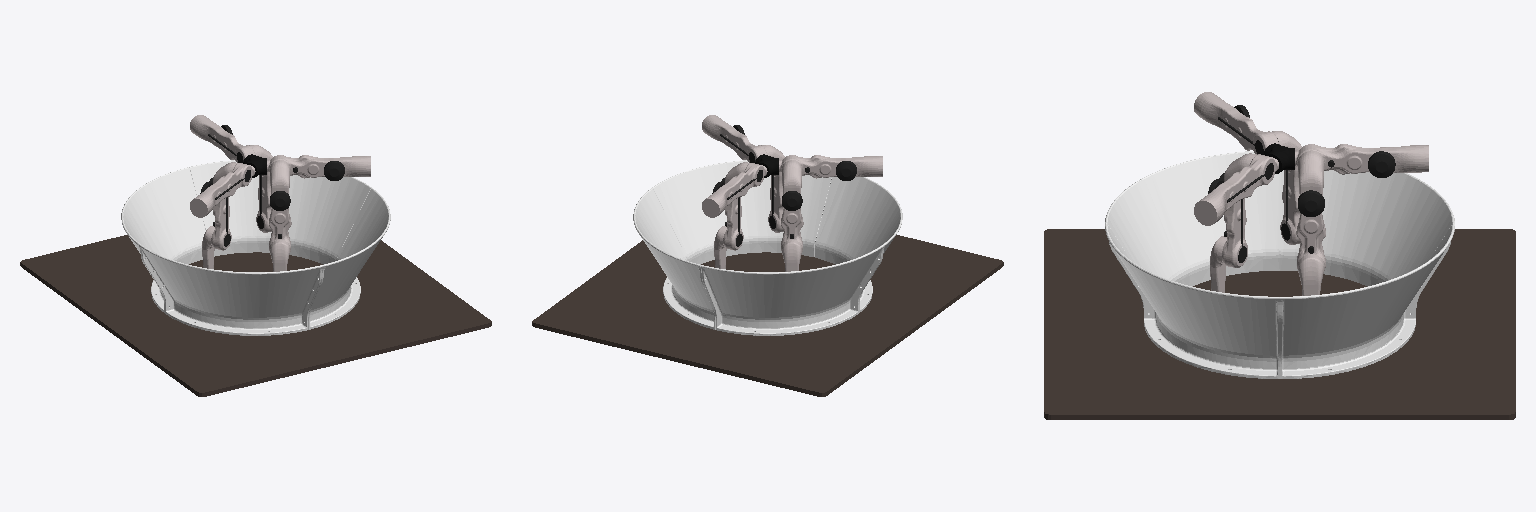
--- Facts derived from the render (not from the file) ---
Views: 3 orthographic renders of the robot side by side, from view 1: azimuth 30°, elevation 25°; view 2: azimuth 150°, elevation 25°; view 3: azimuth 270°, elevation 25°.
Model trifingerpro_with_stage with 25 links and 24 joints (9 revolute, 15 fixed), rooted at base_link, posed every joint at zero.
Links seen in each view (by area): view 1: table_link, boundary_link, finger_upper_link_120, finger_upper_link_240, finger_middle_link_120, finger_upper_link_0, finger_middle_link_240, finger_middle_link_0, finger_lower_link_120; view 2: table_link, boundary_link, finger_upper_link_240, finger_upper_link_0, finger_middle_link_240, finger_upper_link_120, finger_middle_link_0, finger_middle_link_120, finger_lower_link_240; view 3: table_link, boundary_link, finger_upper_link_0, finger_upper_link_120, finger_middle_link_0, finger_upper_link_240, finger_middle_link_120, finger_middle_link_240, finger_lower_link_0, finger_lower_link_120, finger_upper_link_visuals_0, finger_middle_link_visuals_0 (+1 smaller).
Boxes of the visible links, left/top/right/bottom form: table_link: left=20, top=235, right=491, bottom=396; boundary_link: left=121, top=160, right=390, bottom=335; finger_upper_link_120: left=267, top=155, right=370, bottom=178; finger_upper_link_240: left=190, top=163, right=255, bottom=217; finger_middle_link_120: left=269, top=160, right=291, bottom=250; finger_upper_link_0: left=190, top=115, right=254, bottom=162; finger_middle_link_240: left=211, top=162, right=237, bottom=250; finger_middle_link_0: left=249, top=145, right=272, bottom=232; finger_lower_link_120: left=270, top=240, right=290, bottom=271; table_link: left=532, top=235, right=1003, bottom=396; boundary_link: left=633, top=160, right=902, bottom=335; finger_upper_link_240: left=779, top=155, right=882, bottom=178; finger_upper_link_0: left=702, top=163, right=767, bottom=217; finger_middle_link_240: left=781, top=160, right=803, bottom=250; finger_upper_link_120: left=702, top=115, right=766, bottom=162; finger_middle_link_0: left=723, top=162, right=749, bottom=250; finger_middle_link_120: left=761, top=145, right=784, bottom=232; finger_lower_link_240: left=782, top=240, right=802, bottom=271; table_link: left=1044, top=229, right=1515, bottom=419; boundary_link: left=1105, top=151, right=1454, bottom=378; finger_upper_link_0: left=1295, top=144, right=1428, bottom=174; finger_upper_link_120: left=1194, top=154, right=1278, bottom=225; finger_middle_link_0: left=1296, top=151, right=1325, bottom=268; finger_upper_link_240: left=1194, top=92, right=1278, bottom=154; finger_middle_link_120: left=1222, top=153, right=1256, bottom=267; finger_middle_link_240: left=1272, top=131, right=1301, bottom=244; finger_lower_link_0: left=1298, top=254, right=1324, bottom=295; finger_lower_link_120: left=1210, top=236, right=1226, bottom=292; finger_upper_link_visuals_0: left=1328, top=151, right=1395, bottom=177; finger_middle_link_visuals_0: left=1298, top=190, right=1324, bottom=253.
Bounding box of the posed robot: 0.71 × 0.76 × 0.3555 m (x, y, z).
Meshes: 8 distinct files referenced, 21 mesh visuals loaded (8 binary STL).

URDF robot description (trifingerpro_with_stage):
<?xml version="1.0" ?>
<!-- =================================================================================== -->
<!-- |    This document was autogenerated by xacro from robot_properties_fingers/xacro/pro/trifingerpro_with_stage.urdf.xacro | -->
<!-- |    EDITING THIS FILE BY HAND IS NOT RECOMMENDED                                 | -->
<!-- =================================================================================== -->
<robot name="trifingerpro_with_stage">
  <!--
    Frames are defined such that they all align with the base frame when all
    joints are at position zero.

    In zero-configuration the origins of all joints are in one line.

    In zero-configuration the origin of the base link is exactly above the
    finger tip which should make it easy to place the finger in the world.
    -->
  <material name="fingerpro_shell">
    <!-- colour from image -->
    <color rgba="0.804 0.764 0.761 1.0"/>
  </material>
  <material name="fingerpro_tip">
    <!-- colour from image -->
    <color rgba="0.33 0.36 0.37 1.0"/>
  </material>
  <material name="fingerpro_motor">
    <color rgba="0.17 0.17 0.17 1.0"/>
  </material>
  <material name="center_holder_material">
    <color rgba="0.1 0.1 0.1 1.0"/>
  </material>
  <!-- Define the global base_link and place all other objects relative to it. -->
  <link name="base_link">
    <!-- add inertial to suppress warning -->
    <inertial>
      <mass value="0"/>
      <inertia ixx="0.0" ixy="0.0" ixz="0.0" iyy="0.0" iyz="0.0" izz="0.0"/>
    </inertial>
  </link>
  <!-- Define the upper holder -->
  <link name="upper_holder_link">
    <visual>
      <origin rpy="0 0 0" xyz="0 0 0"/>
      <geometry>
        <mesh filename="package://robot_properties_fingers/meshes/pro/center_axis_sim.stl" scale="1.0 1.0 1.0"/>
      </geometry>
      <material name="center_holder_material"/>
    </visual>
    <!-- add inertial to suppress warning -->
    <inertial>
      <mass value="0"/>
      <inertia ixx="0.0" ixy="0.0" ixz="0.0" iyy="0.0" iyz="0.0" izz="0.0"/>
    </inertial>
  </link>
  <joint name="base_to_upper_holder_joint" type="fixed">
    <parent link="base_link"/>
    <child link="upper_holder_link"/>
    <origin xyz="0 0 0.29"/>
  </joint>
  <!--
        Fixed links for the finger base (parts where the upper link is mounted).
        Note: Link Frames already coincide with the joint location
        -->
  <link name="finger_base_link_0">
    <inertial>
      <mass value="0"/>
      <inertia ixx="0.0" ixy="0.0" ixz="0.0" iyy="0.0" iyz="0.0" izz="0.0"/>
    </inertial>
  </link>
  <link name="finger_upper_link_0">
    <visual>
      <origin rpy="0 0 0" xyz="0 0 0"/>
      <geometry>
        <mesh filename="package://robot_properties_fingers/meshes/pro/prox-sim.stl" scale="1.0 1.0 1.0"/>
      </geometry>
      <material name="fingerpro_shell"/>
    </visual>
    <collision>
      <origin rpy="0 0 0" xyz="0 0 0"/>
      <geometry>
        <mesh filename="package://robot_properties_fingers/meshes/pro/prox-sim.stl" scale="1.0 1.0 1.0"/>
      </geometry>
    </collision>
    <inertial>
      <origin rpy="0 0 0" xyz="0.006 0.122 0.000"/>
      <mass value="0.26689"/>
      <inertia ixx="0.00102362" ixy="0.00000889" ixz="-0.00000019" iyx="0.00000889" iyy="0.00006450" iyz="0.00000106" izx="-0.00000019" izy="0.00000106" izz="0.00102225"/>
    </inertial>
  </link>
  <link name="finger_upper_link_visuals_0">
    <!-- motor -->
    <visual>
      <origin xyz="0.01569 0.1643 0"/>
      <geometry>
        <mesh filename="package://robot_properties_fingers/meshes/pro/motor_sim.stl"/>
      </geometry>
      <material name="fingerpro_motor"/>
    </visual>
    <!-- end stop -->
    <visual>
      <origin rpy="0 1.5707963267948966 0" xyz="0.015 0.083 0"/>
      <geometry>
        <cylinder length="0.015" radius="0.005"/>
      </geometry>
      <material name="fingerpro_motor"/>
    </visual>
    <!-- cables -->
    <visual>
      <origin rpy="1.5707963267948966 0 0" xyz="-0.008 0.124 0"/>
      <geometry>
        <cylinder length="0.12" radius="0.002"/>
      </geometry>
      <material name="fingerpro_motor"/>
    </visual>
    <!-- opening on lower joint -->
    <visual>
      <origin rpy="0 1.5707963267948966 0" xyz="-0.0085 0.050 0"/>
      <geometry>
        <cylinder length="0.002" radius="0.014"/>
      </geometry>
      <material name="fingerpro_motor"/>
    </visual>
    <inertial>
      <mass value="0"/>
      <inertia ixx="0.0" ixy="0.0" ixz="0.0" iyy="0.0" iyz="0.0" izz="0.0"/>
    </inertial>
  </link>
  <joint name="finger_upper_visuals_joint_0" type="fixed">
    <parent link="finger_upper_link_0"/>
    <child link="finger_upper_link_visuals_0"/>
    <origin xyz="0 0 0"/>
  </joint>
  <link name="finger_middle_link_0">
    <visual>
      <origin rpy="0 0 0" xyz="0 0 0"/>
      <geometry>
        <mesh filename="package://robot_properties_fingers/meshes/pro/int_sim.stl" scale="1.0 1.0 1.0"/>
      </geometry>
      <material name="fingerpro_shell"/>
    </visual>
    <collision>
      <origin rpy="0 0 0" xyz="0 0 0"/>
      <geometry>
        <mesh filename="package://robot_properties_fingers/meshes/pro/int_sim.stl" scale="1.0 1.0 1.0"/>
      </geometry>
    </collision>
    <inertial>
      <origin rpy="0 0 0" xyz="0.03935008 -0.00012438 -0.08666705"/>
      <mass value="0.27163"/>
      <inertia ixx="0.00094060" ixy="-0.00000046" ixz="-0.00003479" iyx="-0.00000046" iyy="0.00094824" iyz="0.00000164" izx="-0.00003479" izy="0.00000164" izz="0.00007573"/>
    </inertial>
  </link>
  <link name="finger_middle_link_visuals_0">
    <!-- motor -->
    <visual>
      <origin xyz="0.0488 0 -0.0462"/>
      <geometry>
        <mesh filename="package://robot_properties_fingers/meshes/pro/motor_sim.stl"/>
      </geometry>
      <material name="fingerpro_motor"/>
    </visual>
    <!-- end stop -->
    <visual>
      <origin rpy="0 1.5707963267948966 0" xyz="0.0488 0 -0.13"/>
      <geometry>
        <cylinder length="0.015" radius="0.005"/>
      </geometry>
      <material name="fingerpro_motor"/>
    </visual>
    <!-- cables -->
    <visual>
      <origin xyz="0.025 0 -0.09"/>
      <geometry>
        <cylinder length="0.12" radius="0.002"/>
      </geometry>
      <material name="fingerpro_motor"/>
    </visual>
    <!-- opening on lower joint -->
    <visual>
      <origin rpy="0 1.5707963267948966 0" xyz="0.024 0 -0.16"/>
      <geometry>
        <cylinder length="0.002" radius="0.014"/>
      </geometry>
      <material name="fingerpro_motor"/>
    </visual>
    <inertial>
      <mass value="0"/>
      <inertia ixx="0.0" ixy="0.0" ixz="0.0" iyy="0.0" iyz="0.0" izz="0.0"/>
    </inertial>
  </link>
  <joint name="finger_middle_visuals_joint_0" type="fixed">
    <parent link="finger_middle_link_0"/>
    <child link="finger_middle_link_visuals_0"/>
  </joint>
  <link name="finger_lower_link_0">
    <visual>
      <origin rpy="0 0 0" xyz="0 0 0"/>
      <geometry>
        <mesh filename="package://robot_properties_fingers/meshes/pro/tip_link_sim.stl" scale="1.0 1.0 1.0"/>
      </geometry>
      <material name="fingerpro_shell"/>
    </visual>
    <collision>
      <origin rpy="0 0 0" xyz="0 0 0"/>
      <geometry>
        <mesh filename="package://robot_properties_fingers/meshes/pro/tip_link_sim.stl" scale="1.0 1.0 1.0"/>
      </geometry>
    </collision>
    <inertial>
      <origin rpy="0 0 0" xyz="0.01632700 -0.00001095 -0.04284052"/>
      <mass value="0.05569"/>
      <inertia ixx="0.00013626" ixy="0.00000000" ixz="-0.00000662" iyx="0.00000000" iyy="0.00013372" iyz="0.00000004" izx="-0.00000662" izy="0.00000004" izz="0.00000667"/>
    </inertial>
  </link>
  <!-- fixed link for finger tip -->
  <link name="finger_tip_link_0">
    <visual>
      <origin rpy="0 0 0" xyz="0 0 0"/>
      <geometry>
        <mesh filename="package://robot_properties_fingers/meshes/pro/tip_sim.stl" scale="1.0 1.0 1.0"/>
      </geometry>
      <material name="fingerpro_tip"/>
    </visual>
    <collision>
      <origin rpy="0 0 0" xyz="0 0 0"/>
      <geometry>
        <mesh filename="package://robot_properties_fingers/meshes/pro/tip_sim.stl" scale="1.0 1.0 1.0"/>
      </geometry>
    </collision>
    <inertial>
      <origin rpy="0 0 0" xyz="0 0 0"/>
      <mass value="0.031"/>
      <inertia ixx="5.166666666666667e-07" ixy="0" ixz="0" iyy="5.166666666666667e-07" iyz="0" izz="5.166666666666667e-07"/>
    </inertial>
    <inertial>
      <origin rpy="0 0 0" xyz="-0.00001194 0.00000000 0.01560060"/>
      <mass value="0.0092"/>
      <inertia ixx="0.00000155" ixy="0.00000000" ixz="0.00000000" iyx="0.00000000" iyy="0.00000155" iyz="0.00000000" izx="0.00000000" izy="0.00000000" izz="0.00000032"/>
    </inertial>
  </link>
  <joint name="finger_lower_to_tip_joint_0" type="fixed">
    <parent link="finger_lower_link_0"/>
    <child link="finger_tip_link_0"/>
    <origin xyz="0.019 0 -0.16"/>
  </joint>
  <!-- kinematics -->
  <!-- NOTE: Joint limits are set according to soft limits in the
             configuration of the real robot (i.e. not according to physical
             limits). -->
  <joint name="finger_base_to_upper_joint_0" type="revolute">
    <parent link="finger_base_link_0"/>
    <child link="finger_upper_link_0"/>
    <limit effort="1000" lower="-0.33" upper="1.0" velocity="1000"/>
    <axis xyz="0 1 0"/>
    <origin rpy="0 0 0" xyz="0 0 0"/>
  </joint>
  <joint name="finger_upper_to_middle_joint_0" type="revolute">
    <parent link="finger_upper_link_0"/>
    <child link="finger_middle_link_0"/>
    <limit effort="1000" lower="0.0" upper="1.57" velocity="1000"/>
    <axis xyz="1 0 0"/>
    <origin rpy="0 0 0" xyz="0.01685 0.0505 0"/>
  </joint>
  <joint name="finger_middle_to_lower_joint_0" type="revolute">
    <parent link="finger_middle_link_0"/>
    <child link="finger_lower_link_0"/>
    <limit effort="1000" lower="-2.7" upper="0.0" velocity="1000"/>
    <axis xyz="1 0 0"/>
    <origin rpy="0 0 0" xyz="0.05015 0 -0.16"/>
  </joint>
  <!--
        Fixed links for the finger base (parts where the upper link is mounted).
        Note: Link Frames already coincide with the joint location
        -->
  <link name="finger_base_link_120">
    <inertial>
      <mass value="0"/>
      <inertia ixx="0.0" ixy="0.0" ixz="0.0" iyy="0.0" iyz="0.0" izz="0.0"/>
    </inertial>
  </link>
  <link name="finger_upper_link_120">
    <visual>
      <origin rpy="0 0 0" xyz="0 0 0"/>
      <geometry>
        <mesh filename="package://robot_properties_fingers/meshes/pro/prox-sim.stl" scale="1.0 1.0 1.0"/>
      </geometry>
      <material name="fingerpro_shell"/>
    </visual>
    <collision>
      <origin rpy="0 0 0" xyz="0 0 0"/>
      <geometry>
        <mesh filename="package://robot_properties_fingers/meshes/pro/prox-sim.stl" scale="1.0 1.0 1.0"/>
      </geometry>
    </collision>
    <inertial>
      <origin rpy="0 0 0" xyz="0.006 0.122 0.000"/>
      <mass value="0.26689"/>
      <inertia ixx="0.00102362" ixy="0.00000889" ixz="-0.00000019" iyx="0.00000889" iyy="0.00006450" iyz="0.00000106" izx="-0.00000019" izy="0.00000106" izz="0.00102225"/>
    </inertial>
  </link>
  <link name="finger_upper_link_visuals_120">
    <!-- motor -->
    <visual>
      <origin xyz="0.01569 0.1643 0"/>
      <geometry>
        <mesh filename="package://robot_properties_fingers/meshes/pro/motor_sim.stl"/>
      </geometry>
      <material name="fingerpro_motor"/>
    </visual>
    <!-- end stop -->
    <visual>
      <origin rpy="0 1.5707963267948966 0" xyz="0.015 0.083 0"/>
      <geometry>
        <cylinder length="0.015" radius="0.005"/>
      </geometry>
      <material name="fingerpro_motor"/>
    </visual>
    <!-- cables -->
    <visual>
      <origin rpy="1.5707963267948966 0 0" xyz="-0.008 0.124 0"/>
      <geometry>
        <cylinder length="0.12" radius="0.002"/>
      </geometry>
      <material name="fingerpro_motor"/>
    </visual>
    <!-- opening on lower joint -->
    <visual>
      <origin rpy="0 1.5707963267948966 0" xyz="-0.0085 0.050 0"/>
      <geometry>
        <cylinder length="0.002" radius="0.014"/>
      </geometry>
      <material name="fingerpro_motor"/>
    </visual>
    <inertial>
      <mass value="0"/>
      <inertia ixx="0.0" ixy="0.0" ixz="0.0" iyy="0.0" iyz="0.0" izz="0.0"/>
    </inertial>
  </link>
  <joint name="finger_upper_visuals_joint_120" type="fixed">
    <parent link="finger_upper_link_120"/>
    <child link="finger_upper_link_visuals_120"/>
    <origin xyz="0 0 0"/>
  </joint>
  <link name="finger_middle_link_120">
    <visual>
      <origin rpy="0 0 0" xyz="0 0 0"/>
      <geometry>
        <mesh filename="package://robot_properties_fingers/meshes/pro/int_sim.stl" scale="1.0 1.0 1.0"/>
      </geometry>
      <material name="fingerpro_shell"/>
    </visual>
    <collision>
      <origin rpy="0 0 0" xyz="0 0 0"/>
      <geometry>
        <mesh filename="package://robot_properties_fingers/meshes/pro/int_sim.stl" scale="1.0 1.0 1.0"/>
      </geometry>
    </collision>
    <inertial>
      <origin rpy="0 0 0" xyz="0.03935008 -0.00012438 -0.08666705"/>
      <mass value="0.27163"/>
      <inertia ixx="0.00094060" ixy="-0.00000046" ixz="-0.00003479" iyx="-0.00000046" iyy="0.00094824" iyz="0.00000164" izx="-0.00003479" izy="0.00000164" izz="0.00007573"/>
    </inertial>
  </link>
  <link name="finger_middle_link_visuals_120">
    <!-- motor -->
    <visual>
      <origin xyz="0.0488 0 -0.0462"/>
      <geometry>
        <mesh filename="package://robot_properties_fingers/meshes/pro/motor_sim.stl"/>
      </geometry>
      <material name="fingerpro_motor"/>
    </visual>
    <!-- end stop -->
    <visual>
      <origin rpy="0 1.5707963267948966 0" xyz="0.0488 0 -0.13"/>
      <geometry>
        <cylinder length="0.015" radius="0.005"/>
      </geometry>
      <material name="fingerpro_motor"/>
    </visual>
    <!-- cables -->
    <visual>
      <origin xyz="0.025 0 -0.09"/>
      <geometry>
        <cylinder length="0.12" radius="0.002"/>
      </geometry>
      <material name="fingerpro_motor"/>
    </visual>
    <!-- opening on lower joint -->
    <visual>
      <origin rpy="0 1.5707963267948966 0" xyz="0.024 0 -0.16"/>
      <geometry>
        <cylinder length="0.002" radius="0.014"/>
      </geometry>
      <material name="fingerpro_motor"/>
    </visual>
    <inertial>
      <mass value="0"/>
      <inertia ixx="0.0" ixy="0.0" ixz="0.0" iyy="0.0" iyz="0.0" izz="0.0"/>
    </inertial>
  </link>
  <joint name="finger_middle_visuals_joint_120" type="fixed">
    <parent link="finger_middle_link_120"/>
    <child link="finger_middle_link_visuals_120"/>
  </joint>
  <link name="finger_lower_link_120">
    <visual>
      <origin rpy="0 0 0" xyz="0 0 0"/>
      <geometry>
        <mesh filename="package://robot_properties_fingers/meshes/pro/tip_link_sim.stl" scale="1.0 1.0 1.0"/>
      </geometry>
      <material name="fingerpro_shell"/>
    </visual>
    <collision>
      <origin rpy="0 0 0" xyz="0 0 0"/>
      <geometry>
        <mesh filename="package://robot_properties_fingers/meshes/pro/tip_link_sim.stl" scale="1.0 1.0 1.0"/>
      </geometry>
    </collision>
    <inertial>
      <origin rpy="0 0 0" xyz="0.01632700 -0.00001095 -0.04284052"/>
      <mass value="0.05569"/>
      <inertia ixx="0.00013626" ixy="0.00000000" ixz="-0.00000662" iyx="0.00000000" iyy="0.00013372" iyz="0.00000004" izx="-0.00000662" izy="0.00000004" izz="0.00000667"/>
    </inertial>
  </link>
  <!-- fixed link for finger tip -->
  <link name="finger_tip_link_120">
    <visual>
      <origin rpy="0 0 0" xyz="0 0 0"/>
      <geometry>
        <mesh filename="package://robot_properties_fingers/meshes/pro/tip_sim.stl" scale="1.0 1.0 1.0"/>
      </geometry>
      <material name="fingerpro_tip"/>
    </visual>
    <collision>
      <origin rpy="0 0 0" xyz="0 0 0"/>
      <geometry>
        <mesh filename="package://robot_properties_fingers/meshes/pro/tip_sim.stl" scale="1.0 1.0 1.0"/>
      </geometry>
    </collision>
    <inertial>
      <origin rpy="0 0 0" xyz="0 0 0"/>
      <mass value="0.031"/>
      <inertia ixx="5.166666666666667e-07" ixy="0" ixz="0" iyy="5.166666666666667e-07" iyz="0" izz="5.166666666666667e-07"/>
    </inertial>
    <inertial>
      <origin rpy="0 0 0" xyz="-0.00001194 0.00000000 0.01560060"/>
      <mass value="0.0092"/>
      <inertia ixx="0.00000155" ixy="0.00000000" ixz="0.00000000" iyx="0.00000000" iyy="0.00000155" iyz="0.00000000" izx="0.00000000" izy="0.00000000" izz="0.00000032"/>
    </inertial>
  </link>
  <joint name="finger_lower_to_tip_joint_120" type="fixed">
    <parent link="finger_lower_link_120"/>
    <child link="finger_tip_link_120"/>
    <origin xyz="0.019 0 -0.16"/>
  </joint>
  <!-- kinematics -->
  <!-- NOTE: Joint limits are set according to soft limits in the
             configuration of the real robot (i.e. not according to physical
             limits). -->
  <joint name="finger_base_to_upper_joint_120" type="revolute">
    <parent link="finger_base_link_120"/>
    <child link="finger_upper_link_120"/>
    <limit effort="1000" lower="-0.33" upper="1.0" velocity="1000"/>
    <axis xyz="0 1 0"/>
    <origin rpy="0 0 0" xyz="0 0 0"/>
  </joint>
  <joint name="finger_upper_to_middle_joint_120" type="revolute">
    <parent link="finger_upper_link_120"/>
    <child link="finger_middle_link_120"/>
    <limit effort="1000" lower="0.0" upper="1.57" velocity="1000"/>
    <axis xyz="1 0 0"/>
    <origin rpy="0 0 0" xyz="0.01685 0.0505 0"/>
  </joint>
  <joint name="finger_middle_to_lower_joint_120" type="revolute">
    <parent link="finger_middle_link_120"/>
    <child link="finger_lower_link_120"/>
    <limit effort="1000" lower="-2.7" upper="0.0" velocity="1000"/>
    <axis xyz="1 0 0"/>
    <origin rpy="0 0 0" xyz="0.05015 0 -0.16"/>
  </joint>
  <!--
        Fixed links for the finger base (parts where the upper link is mounted).
        Note: Link Frames already coincide with the joint location
        -->
  <link name="finger_base_link_240">
    <inertial>
      <mass value="0"/>
      <inertia ixx="0.0" ixy="0.0" ixz="0.0" iyy="0.0" iyz="0.0" izz="0.0"/>
    </inertial>
  </link>
  <link name="finger_upper_link_240">
    <visual>
      <origin rpy="0 0 0" xyz="0 0 0"/>
      <geometry>
        <mesh filename="package://robot_properties_fingers/meshes/pro/prox-sim.stl" scale="1.0 1.0 1.0"/>
      </geometry>
      <material name="fingerpro_shell"/>
    </visual>
    <collision>
      <origin rpy="0 0 0" xyz="0 0 0"/>
      <geometry>
        <mesh filename="package://robot_properties_fingers/meshes/pro/prox-sim.stl" scale="1.0 1.0 1.0"/>
      </geometry>
    </collision>
    <inertial>
      <origin rpy="0 0 0" xyz="0.006 0.122 0.000"/>
      <mass value="0.26689"/>
      <inertia ixx="0.00102362" ixy="0.00000889" ixz="-0.00000019" iyx="0.00000889" iyy="0.00006450" iyz="0.00000106" izx="-0.00000019" izy="0.00000106" izz="0.00102225"/>
    </inertial>
  </link>
  <link name="finger_upper_link_visuals_240">
    <!-- motor -->
    <visual>
      <origin xyz="0.01569 0.1643 0"/>
      <geometry>
        <mesh filename="package://robot_properties_fingers/meshes/pro/motor_sim.stl"/>
      </geometry>
      <material name="fingerpro_motor"/>
    </visual>
    <!-- end stop -->
    <visual>
      <origin rpy="0 1.5707963267948966 0" xyz="0.015 0.083 0"/>
      <geometry>
        <cylinder length="0.015" radius="0.005"/>
      </geometry>
      <material name="fingerpro_motor"/>
    </visual>
    <!-- cables -->
    <visual>
      <origin rpy="1.5707963267948966 0 0" xyz="-0.008 0.124 0"/>
      <geometry>
        <cylinder length="0.12" radius="0.002"/>
      </geometry>
      <material name="fingerpro_motor"/>
    </visual>
    <!-- opening on lower joint -->
    <visual>
      <origin rpy="0 1.5707963267948966 0" xyz="-0.0085 0.050 0"/>
      <geometry>
        <cylinder length="0.002" radius="0.014"/>
      </geometry>
      <material name="fingerpro_motor"/>
    </visual>
    <inertial>
      <mass value="0"/>
      <inertia ixx="0.0" ixy="0.0" ixz="0.0" iyy="0.0" iyz="0.0" izz="0.0"/>
    </inertial>
  </link>
  <joint name="finger_upper_visuals_joint_240" type="fixed">
    <parent link="finger_upper_link_240"/>
    <child link="finger_upper_link_visuals_240"/>
    <origin xyz="0 0 0"/>
  </joint>
  <link name="finger_middle_link_240">
    <visual>
      <origin rpy="0 0 0" xyz="0 0 0"/>
      <geometry>
        <mesh filename="package://robot_properties_fingers/meshes/pro/int_sim.stl" scale="1.0 1.0 1.0"/>
      </geometry>
      <material name="fingerpro_shell"/>
    </visual>
    <collision>
      <origin rpy="0 0 0" xyz="0 0 0"/>
      <geometry>
        <mesh filename="package://robot_properties_fingers/meshes/pro/int_sim.stl" scale="1.0 1.0 1.0"/>
      </geometry>
    </collision>
    <inertial>
      <origin rpy="0 0 0" xyz="0.03935008 -0.00012438 -0.08666705"/>
      <mass value="0.27163"/>
      <inertia ixx="0.00094060" ixy="-0.00000046" ixz="-0.00003479" iyx="-0.00000046" iyy="0.00094824" iyz="0.00000164" izx="-0.00003479" izy="0.00000164" izz="0.00007573"/>
    </inertial>
  </link>
  <link name="finger_middle_link_visuals_240">
    <!-- motor -->
    <visual>
      <origin xyz="0.0488 0 -0.0462"/>
      <geometry>
        <mesh filename="package://robot_properties_fingers/meshes/pro/motor_sim.stl"/>
      </geometry>
      <material name="fingerpro_motor"/>
    </visual>
    <!-- end stop -->
    <visual>
      <origin rpy="0 1.5707963267948966 0" xyz="0.0488 0 -0.13"/>
      <geometry>
        <cylinder length="0.015" radius="0.005"/>
      </geometry>
      <material name="fingerpro_motor"/>
    </visual>
    <!-- cables -->
    <visual>
      <origin xyz="0.025 0 -0.09"/>
      <geometry>
        <cylinder length="0.12" radius="0.002"/>
      </geometry>
      <material name="fingerpro_motor"/>
    </visual>
    <!-- opening on lower joint -->
    <visual>
      <origin rpy="0 1.5707963267948966 0" xyz="0.024 0 -0.16"/>
      <geometry>
        <cylinder length="0.002" radius="0.014"/>
      </geometry>
      <material name="fingerpro_motor"/>
    </visual>
    <inertial>
      <mass value="0"/>
      <inertia ixx="0.0" ixy="0.0" ixz="0.0" iyy="0.0" iyz="0.0" izz="0.0"/>
    </inertial>
  </link>
  <joint name="finger_middle_visuals_joint_240" type="fixed">
    <parent link="finger_middle_link_240"/>
    <child link="finger_middle_link_visuals_240"/>
  </joint>
  <link name="finger_lower_link_240">
    <visual>
      <origin rpy="0 0 0" xyz="0 0 0"/>
      <geometry>
        <mesh filename="package://robot_properties_fingers/meshes/pro/tip_link_sim.stl" scale="1.0 1.0 1.0"/>
      </geometry>
      <material name="fingerpro_shell"/>
    </visual>
    <collision>
      <origin rpy="0 0 0" xyz="0 0 0"/>
      <geometry>
        <mesh filename="package://robot_properties_fingers/meshes/pro/tip_link_sim.stl" scale="1.0 1.0 1.0"/>
      </geometry>
    </collision>
    <inertial>
      <origin rpy="0 0 0" xyz="0.01632700 -0.00001095 -0.04284052"/>
      <mass value="0.05569"/>
      <inertia ixx="0.00013626" ixy="0.00000000" ixz="-0.00000662" iyx="0.00000000" iyy="0.00013372" iyz="0.00000004" izx="-0.00000662" izy="0.00000004" izz="0.00000667"/>
    </inertial>
  </link>
  <!-- fixed link for finger tip -->
  <link name="finger_tip_link_240">
    <visual>
      <origin rpy="0 0 0" xyz="0 0 0"/>
      <geometry>
        <mesh filename="package://robot_properties_fingers/meshes/pro/tip_sim.stl" scale="1.0 1.0 1.0"/>
      </geometry>
      <material name="fingerpro_tip"/>
    </visual>
    <collision>
      <origin rpy="0 0 0" xyz="0 0 0"/>
      <geometry>
        <mesh filename="package://robot_properties_fingers/meshes/pro/tip_sim.stl" scale="1.0 1.0 1.0"/>
      </geometry>
    </collision>
    <inertial>
      <origin rpy="0 0 0" xyz="0 0 0"/>
      <mass value="0.031"/>
      <inertia ixx="5.166666666666667e-07" ixy="0" ixz="0" iyy="5.166666666666667e-07" iyz="0" izz="5.166666666666667e-07"/>
    </inertial>
    <inertial>
      <origin rpy="0 0 0" xyz="-0.00001194 0.00000000 0.01560060"/>
      <mass value="0.0092"/>
      <inertia ixx="0.00000155" ixy="0.00000000" ixz="0.00000000" iyx="0.00000000" iyy="0.00000155" iyz="0.00000000" izx="0.00000000" izy="0.00000000" izz="0.00000032"/>
    </inertial>
  </link>
  <joint name="finger_lower_to_tip_joint_240" type="fixed">
    <parent link="finger_lower_link_240"/>
    <child link="finger_tip_link_240"/>
    <origin xyz="0.019 0 -0.16"/>
  </joint>
  <!-- kinematics -->
  <!-- NOTE: Joint limits are set according to soft limits in the
             configuration of the real robot (i.e. not according to physical
             limits). -->
  <joint name="finger_base_to_upper_joint_240" type="revolute">
    <parent link="finger_base_link_240"/>
    <child link="finger_upper_link_240"/>
    <limit effort="1000" lower="-0.33" upper="1.0" velocity="1000"/>
    <axis xyz="0 1 0"/>
    <origin rpy="0 0 0" xyz="0 0 0"/>
  </joint>
  <joint name="finger_upper_to_middle_joint_240" type="revolute">
    <parent link="finger_upper_link_240"/>
    <child link="finger_middle_link_240"/>
    <limit effort="1000" lower="0.0" upper="1.57" velocity="1000"/>
    <axis xyz="1 0 0"/>
    <origin rpy="0 0 0" xyz="0.01685 0.0505 0"/>
  </joint>
  <joint name="finger_middle_to_lower_joint_240" type="revolute">
    <parent link="finger_middle_link_240"/>
    <child link="finger_lower_link_240"/>
    <limit effort="1000" lower="-2.7" upper="0.0" velocity="1000"/>
    <axis xyz="1 0 0"/>
    <origin rpy="0 0 0" xyz="0.05015 0 -0.16"/>
  </joint>
  <joint name="holder_to_finger_0" type="fixed">
    <parent link="upper_holder_link"/>
    <child link="finger_base_link_0"/>
    <origin rpy="0 0 0.0" xyz="0 0 0"/>
  </joint>
  <joint name="holder_to_finger_120" type="fixed">
    <parent link="upper_holder_link"/>
    <child link="finger_base_link_120"/>
    <origin rpy="0 0 -2.0943951023931953" xyz="0 0 0"/>
  </joint>
  <joint name="holder_to_finger_240" type="fixed">
    <parent link="upper_holder_link"/>
    <child link="finger_base_link_240"/>
    <origin rpy="0 0 -4.1887902047863905" xyz="0 0 0"/>
  </joint>
  <material name="table_material">
    <color rgba="0.31 0.27 0.25 1.0"/>
  </material>
  <material name="boundary_material">
    <color rgba="0.95 0.95 0.95 1.0"/>
  </material>
  <link name="table_link">
    <visual>
      <origin rpy="0 0 0" xyz="0 0 0"/>
      <geometry>
        <mesh filename="package://robot_properties_fingers/meshes/stl/trifinger_table_without_border.stl" scale="1 1 1"/>
      </geometry>
      <material name="table_material"/>
    </visual>
    <collision>
      <origin rpy="0 0 0" xyz="0 0 0"/>
      <geometry>
        <mesh filename="package://robot_properties_fingers/meshes/stl/trifinger_table_without_border.stl" scale="1 1 1"/>
      </geometry>
    </collision>
    <inertial>
      <origin rpy="0 0 0" xyz="0 0 0"/>
      <mass value="2"/>
      <inertia ixx="0.09628333333333333" ixy="0" ixz="0" iyy="0.08403333333333332" iyz="0" izz="0.18028333333333335"/>
    </inertial>
  </link>
  <link name="boundary_link">
    <visual>
      <origin rpy="0 0 0" xyz="0 0 0"/>
      <geometry>
        <mesh filename="package://robot_properties_fingers/meshes/stl/high_table_boundary.stl" scale="1 1 1"/>
      </geometry>
      <material name="boundary_material"/>
    </visual>
    <collision>
      <origin rpy="0 0 0" xyz="0 0 0"/>
      <geometry>
        <mesh filename="package://robot_properties_fingers/meshes/stl/high_table_boundary.stl" scale="1 1 1"/>
      </geometry>
    </collision>
    <inertial>
      <origin rpy="0 0 0" xyz="0 0 0"/>
      <mass value="2"/>
      <inertia ixx="0.05708333333333333" ixy="0" ixz="0" iyy="0.05708333333333333" iyz="0" izz="0.10453333333333334"/>
    </inertial>
  </link>
  <joint name="base_to_table" type="fixed">
    <parent link="base_link"/>
    <child link="table_link"/>
    <origin xyz="0 0 0"/>
  </joint>
  <joint name="table_to_boundary" type="fixed">
    <parent link="table_link"/>
    <child link="boundary_link"/>
    <origin xyz="0 0 0"/>
  </joint>
</robot>
